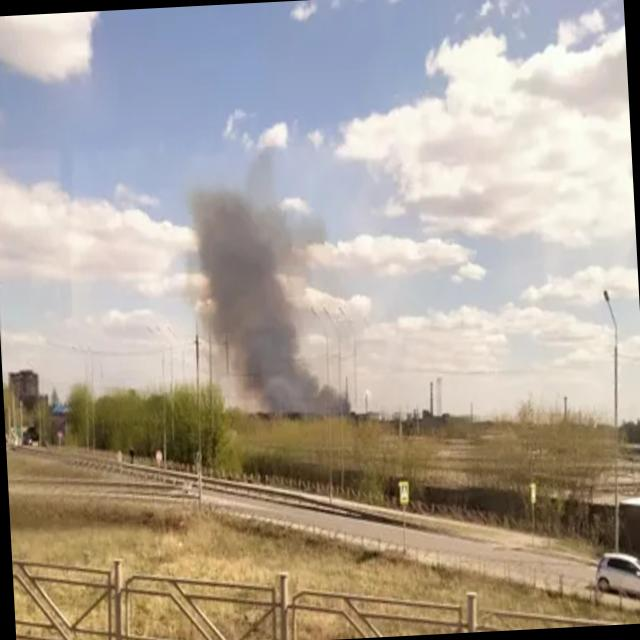Smoke: (186, 144, 362, 418)
